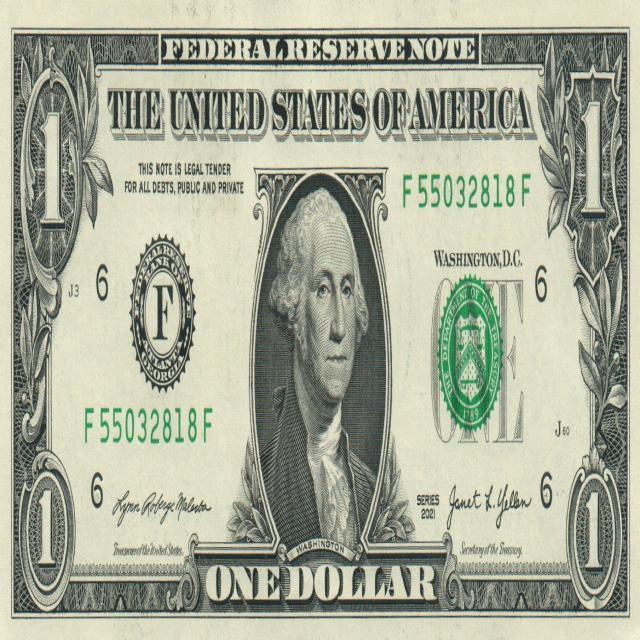SerialNumber: (85, 408, 212, 443), (403, 174, 530, 209)
